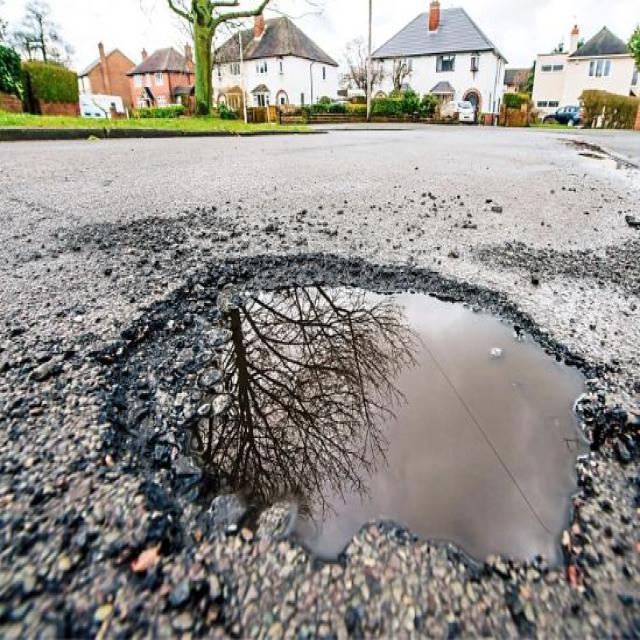pothole: (88, 241, 614, 594)
